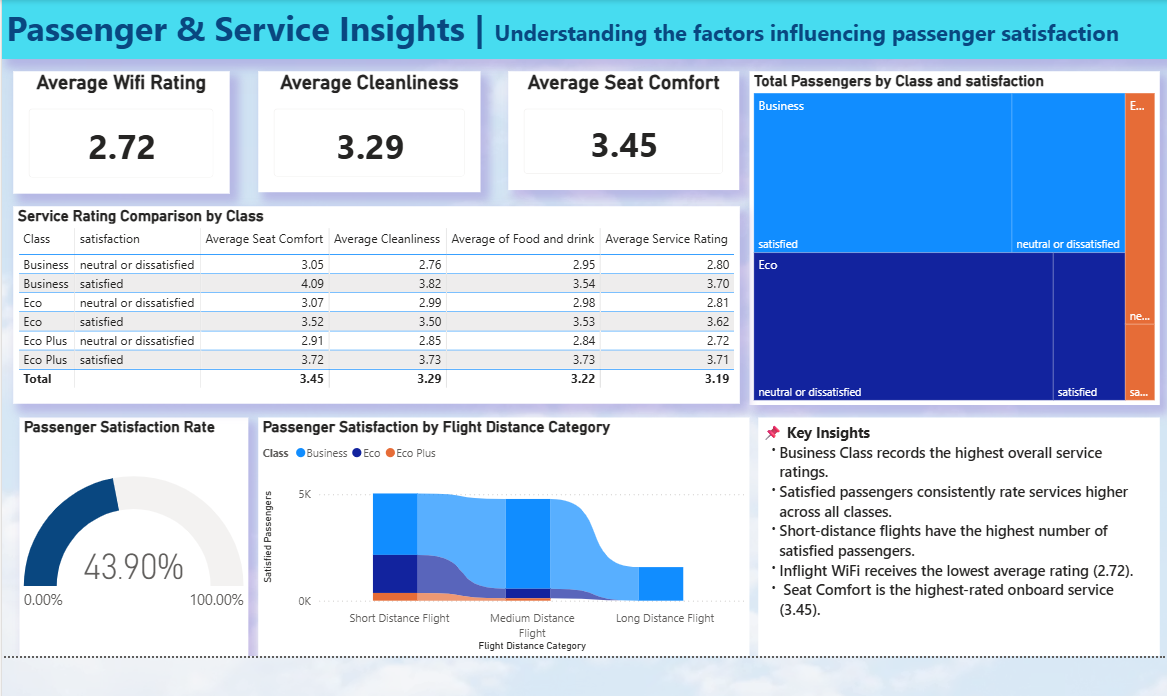

The dashboard page shown, as its layout file describes it:
{"tool":"powerbi","page":{"name":"Page 2","canvas":[1280,720],"ordinal":1},"visuals":[{"type":"textbox","box":[0,0,1280.3,64.5],"z":0},{"type":"cardVisual","title":"Average Wifi Rating","fields":{"Data":["aeroplane_1.Average Wifi Rating"]},"box":[12.3,78.2,237.4,134.5],"z":1000},{"type":"cardVisual","title":"Average Cleanliness","fields":{"Data":["aeroplane_1.Average Cleanliness"]},"box":[281.3,78.2,244.3,133.1],"z":2000},{"type":"cardVisual","title":"Average Seat Comfort","fields":{"Data":["aeroplane_1.Average Seat Comfort"]},"box":[555.7,78.2,253.9,130.4],"z":3000},{"type":"gauge","title":"Passenger Satisfaction Rate","fields":{"Y":["aeroplane_1.Satisfaction Rate"]},"box":[19.2,458.3,251.1,262.1],"z":4000},{"type":"treemap","fields":{"Group":["aeroplane_1.Class"],"Values":["aeroplane_1.Total Passengers"],"Details":["aeroplane_1.satisfaction"]},"box":[820.6,78.2,450.1,366.4],"z":5000},{"type":"tableEx","title":"Service Rating Comparison by Class","fields":{"Values":["aeroplane_1.Class","aeroplane_1.satisfaction","aeroplane_1.Average Seat Comfort","aeroplane_1.Average Cleanliness","Avg(aeroplane_1.Food and drink)","aeroplane_1.Average Service Rating"]},"box":[12.3,226.4,797.3,216.8],"z":6000},{"type":"ribbonChart","title":"Passenger Satisfaction by Flight Distance Category","fields":{"Category":["aeroplane_1.Flight Distance Category"],"Series":["aeroplane_1.Class"],"Y":["aeroplane_1.Satisfied Passengers"]},"box":[281.3,458.3,539.3,262.1],"z":7000},{"type":"textbox","box":[830.2,458.3,440.5,262.1],"z":7001}]}

Visuals, with their boxes in screenshot pixels (x1, y1, x2, y2):
textbox: <box>9,15,1160,73</box>
"Average Wifi Rating" cardVisual: <box>20,86,234,206</box>
"Average Cleanliness" cardVisual: <box>262,86,482,205</box>
"Average Seat Comfort" cardVisual: <box>509,86,737,203</box>
"Passenger Satisfaction Rate" gauge: <box>26,427,252,663</box>
treemap - aeroplane_1.Class x aeroplane_1.Total Passengers: <box>747,86,1152,415</box>
"Service Rating Comparison by Class" tableEx: <box>20,219,737,414</box>
"Passenger Satisfaction by Flight Distance Category" ribbonChart: <box>262,427,747,663</box>
textbox: <box>756,427,1152,663</box>
